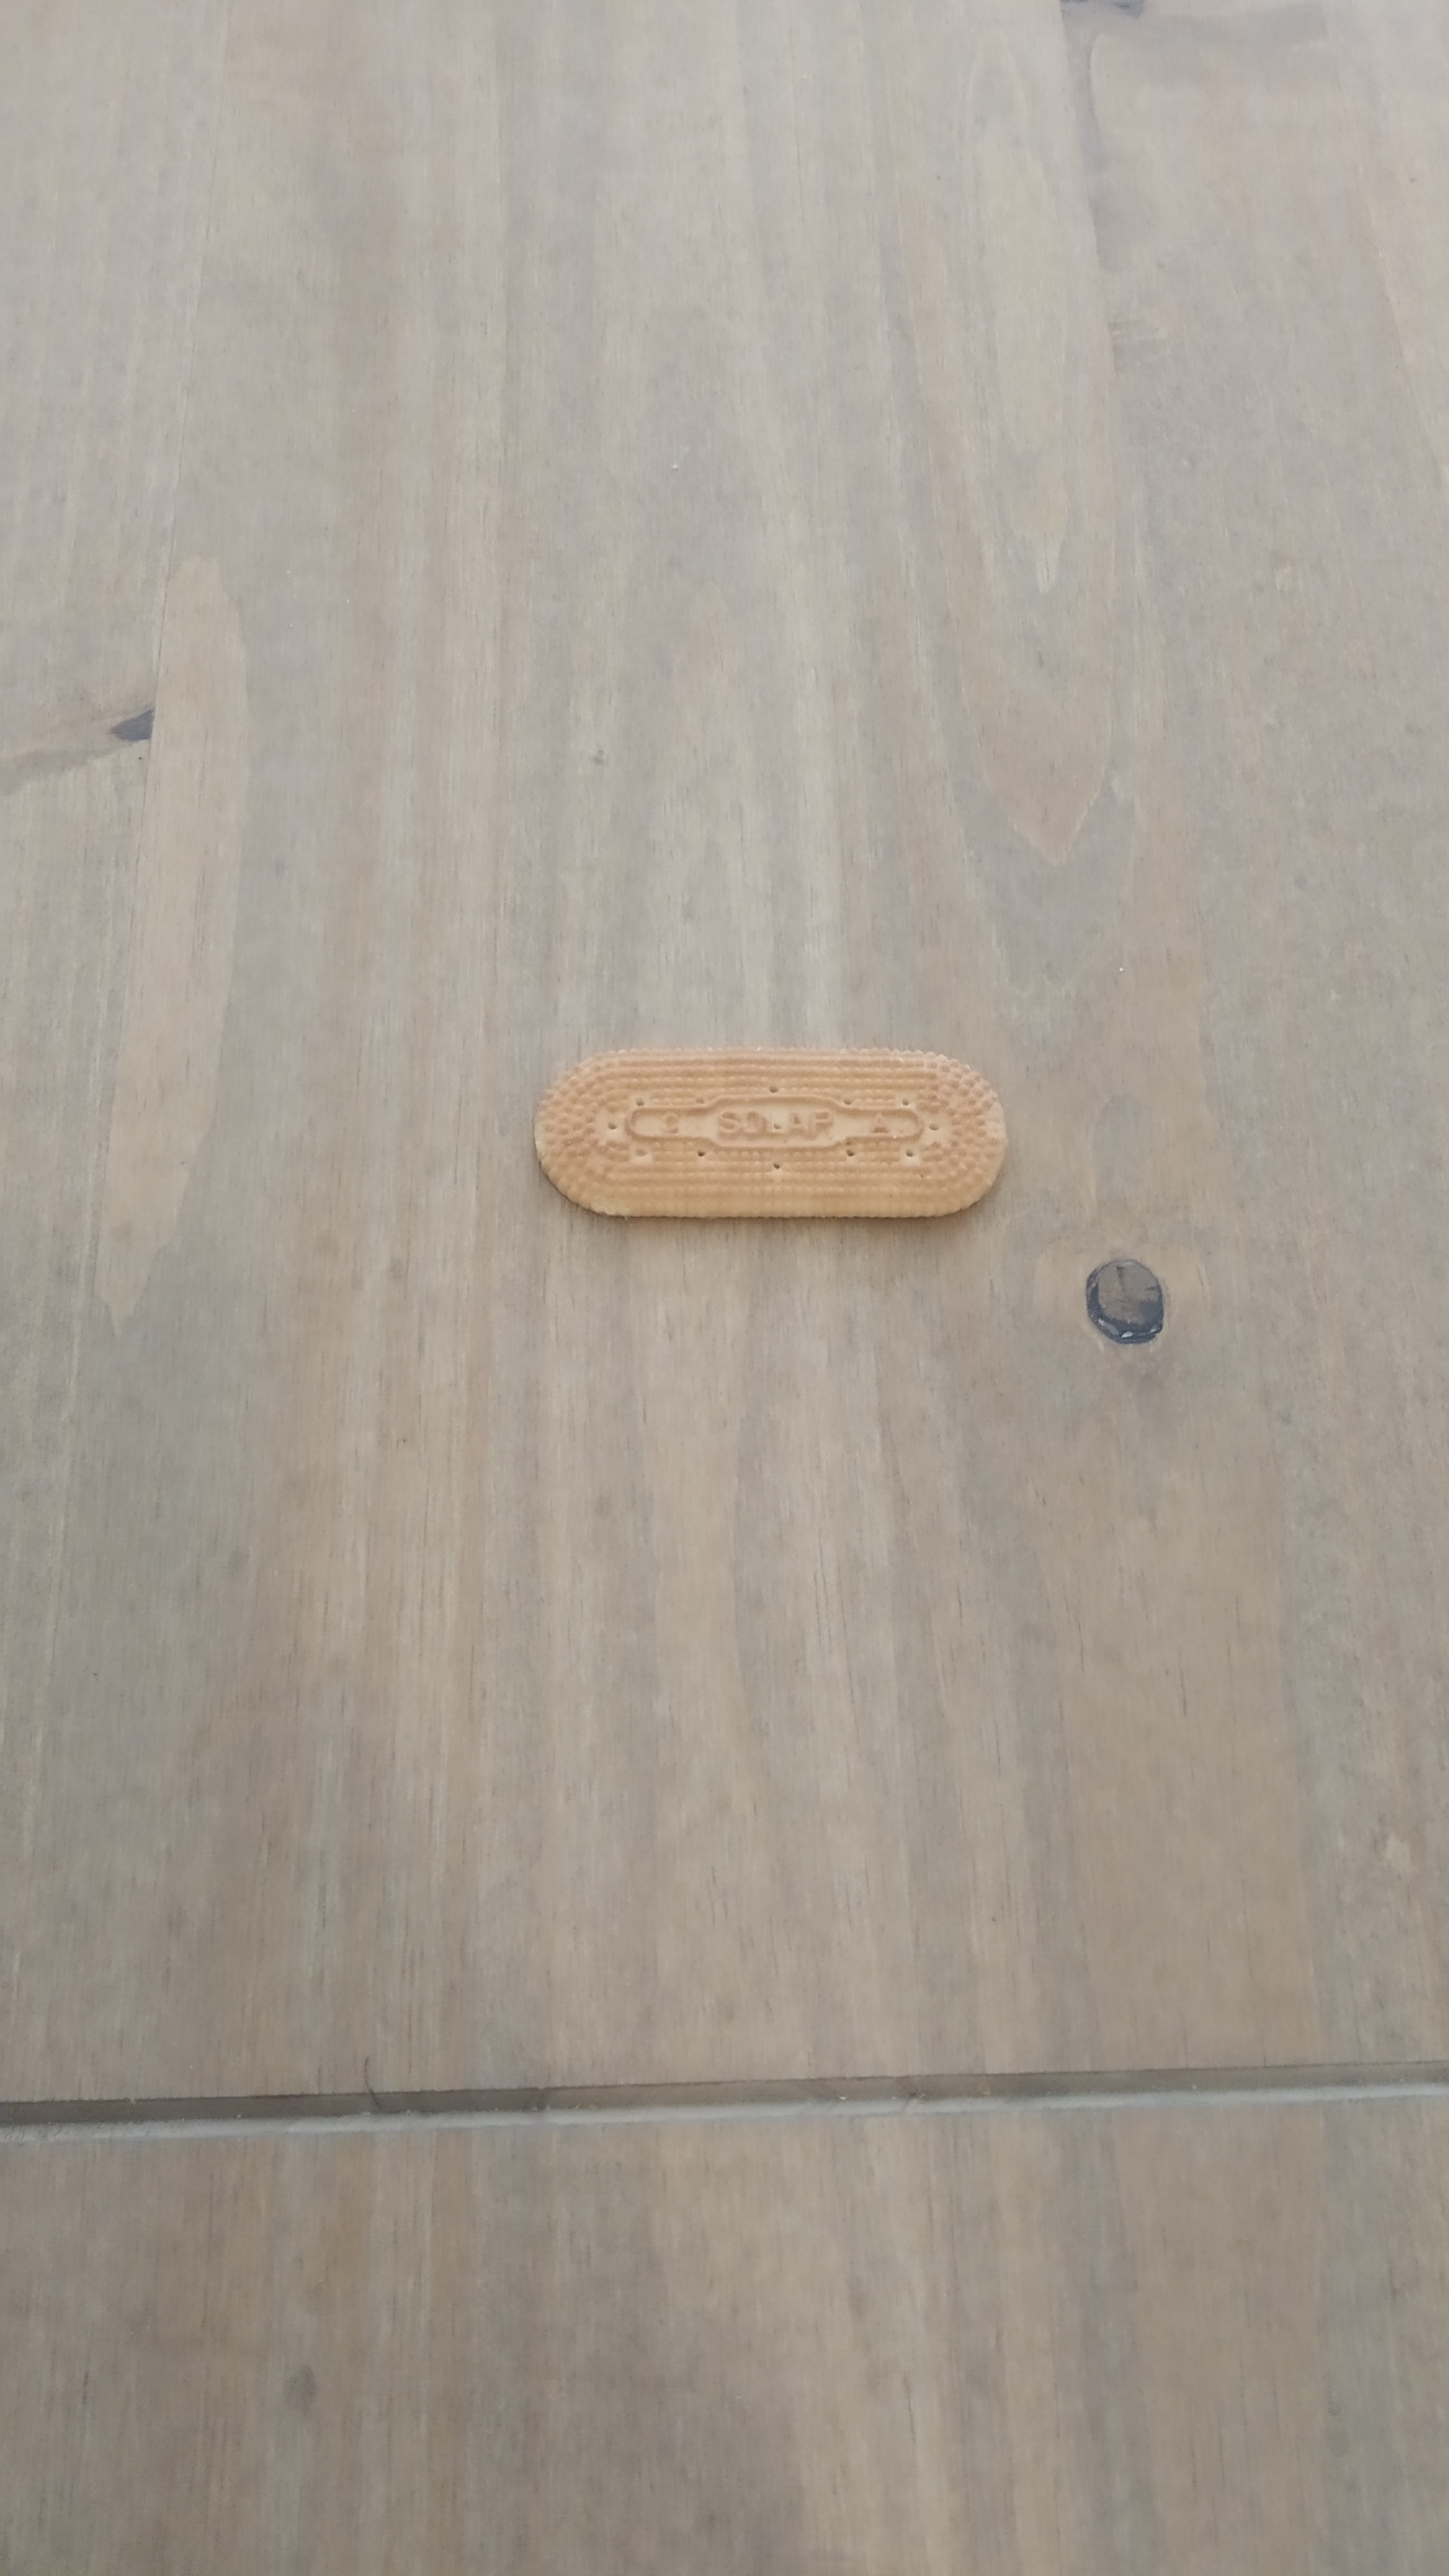solar: (534, 1047, 1008, 1219)
